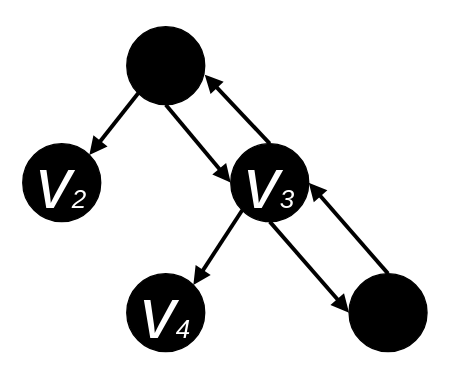
Some shapes in this 450 by 378 pixel diagram are drawn without their labels. The centre of each missing label's shape, as x and y in pixels:
"v 1" belongs at pixel 165 65.
"v 5" belongs at pixel 387 312.
